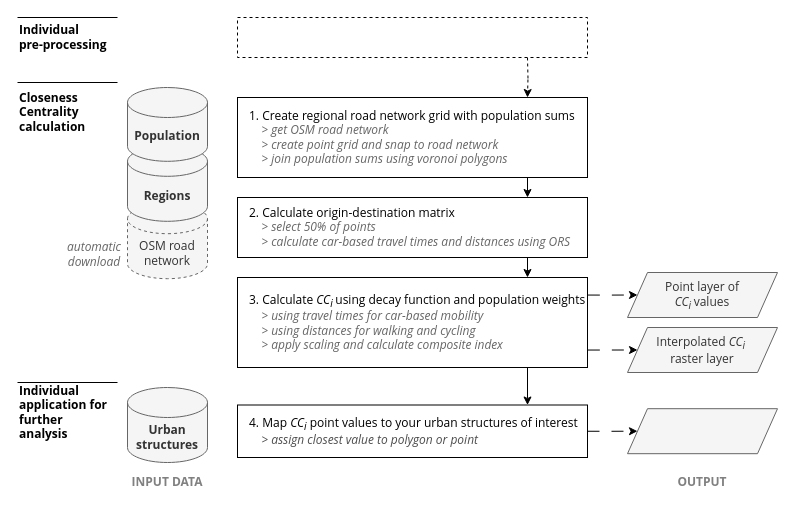
This 795x507 diagram has some shape labels left out. Here are the shapes that lost their labels. From the top down, the box of each, then its label:
(236, 16, 588, 58): 0. Pre-processing > prepare data sources
(626, 408, 778, 454): Urban structures with CC i
